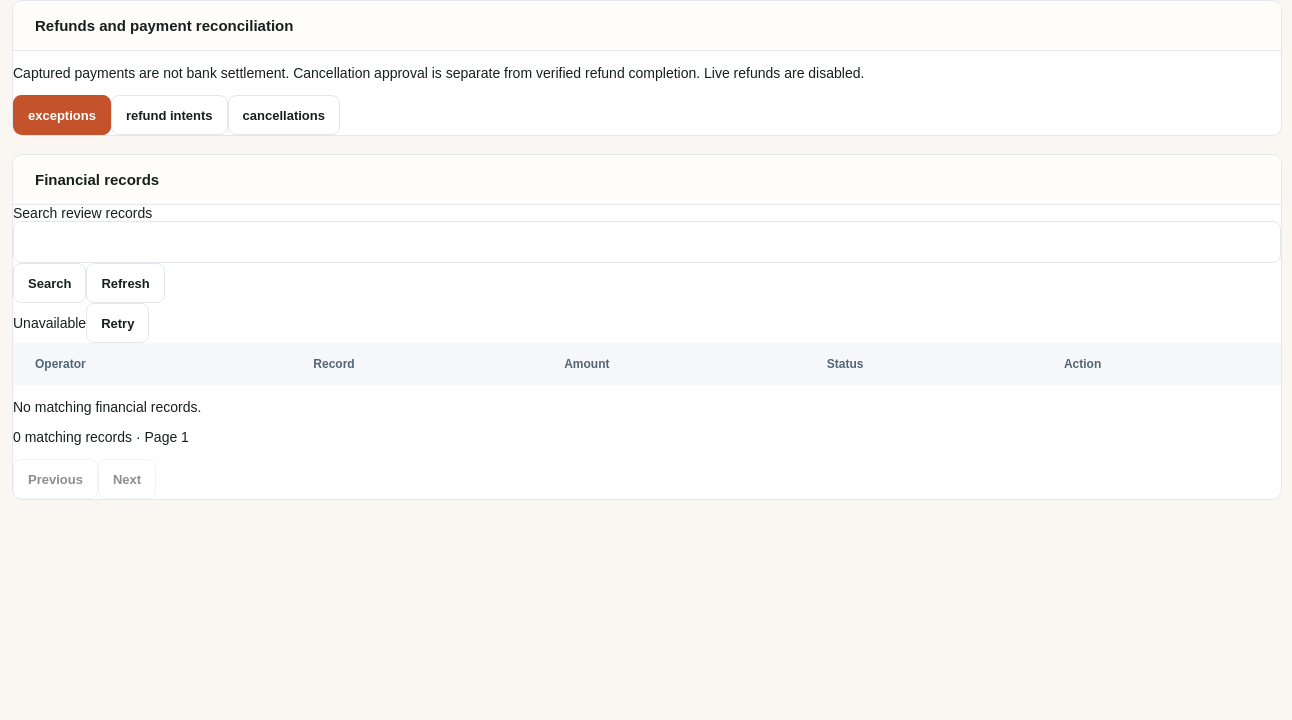
Test: shows read-only exception evidence and supports a failed request retry
This screenshot has width=1292, height=720.
Click the button "Retry" at point(118, 323), box [86, 303, 150, 343]
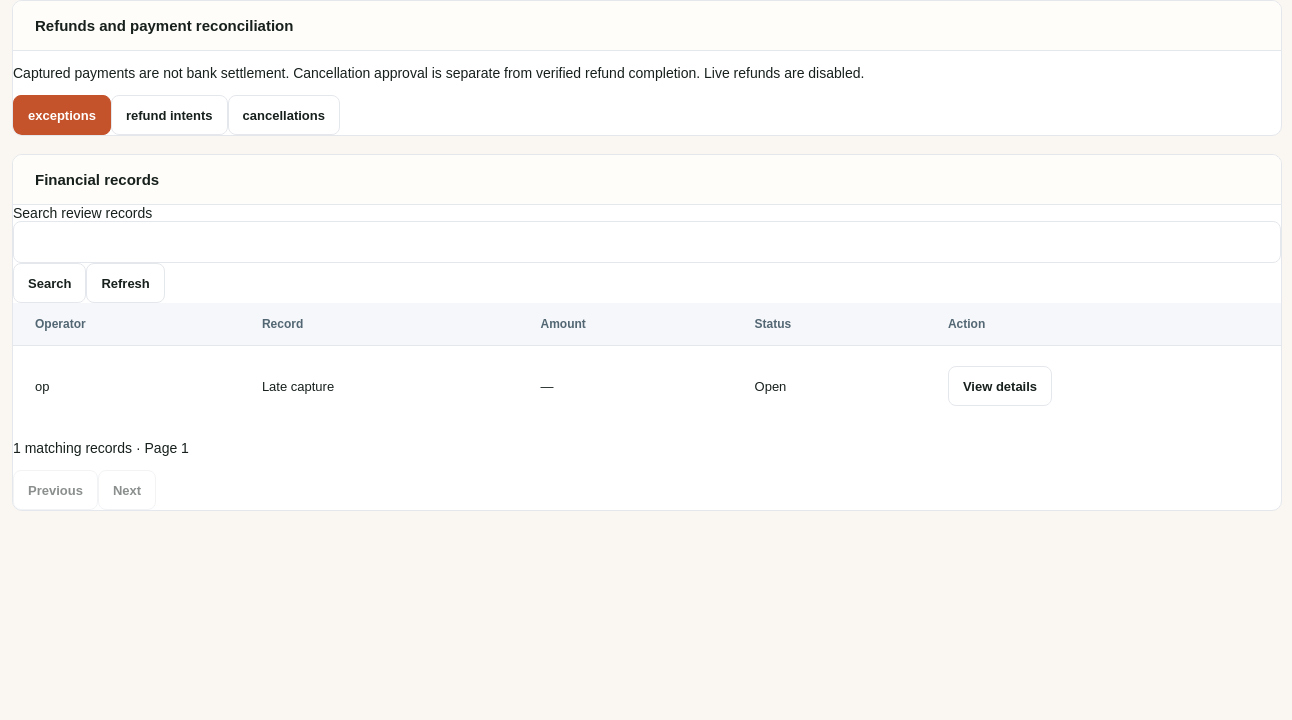
Now the text "Late capture" is shown, box [240, 346, 518, 426]
